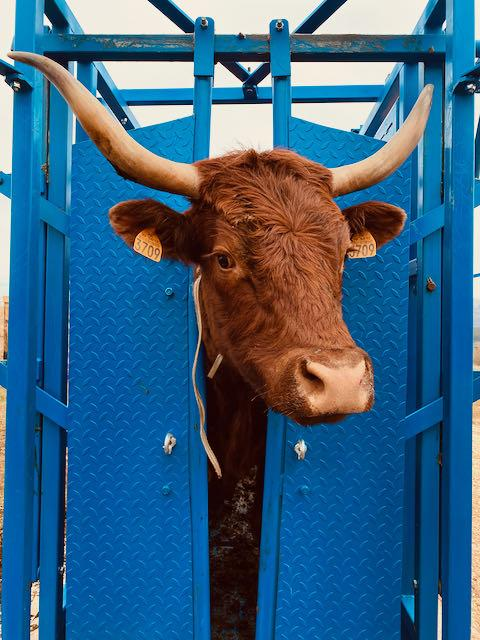muzzles: (284, 346, 377, 427)
